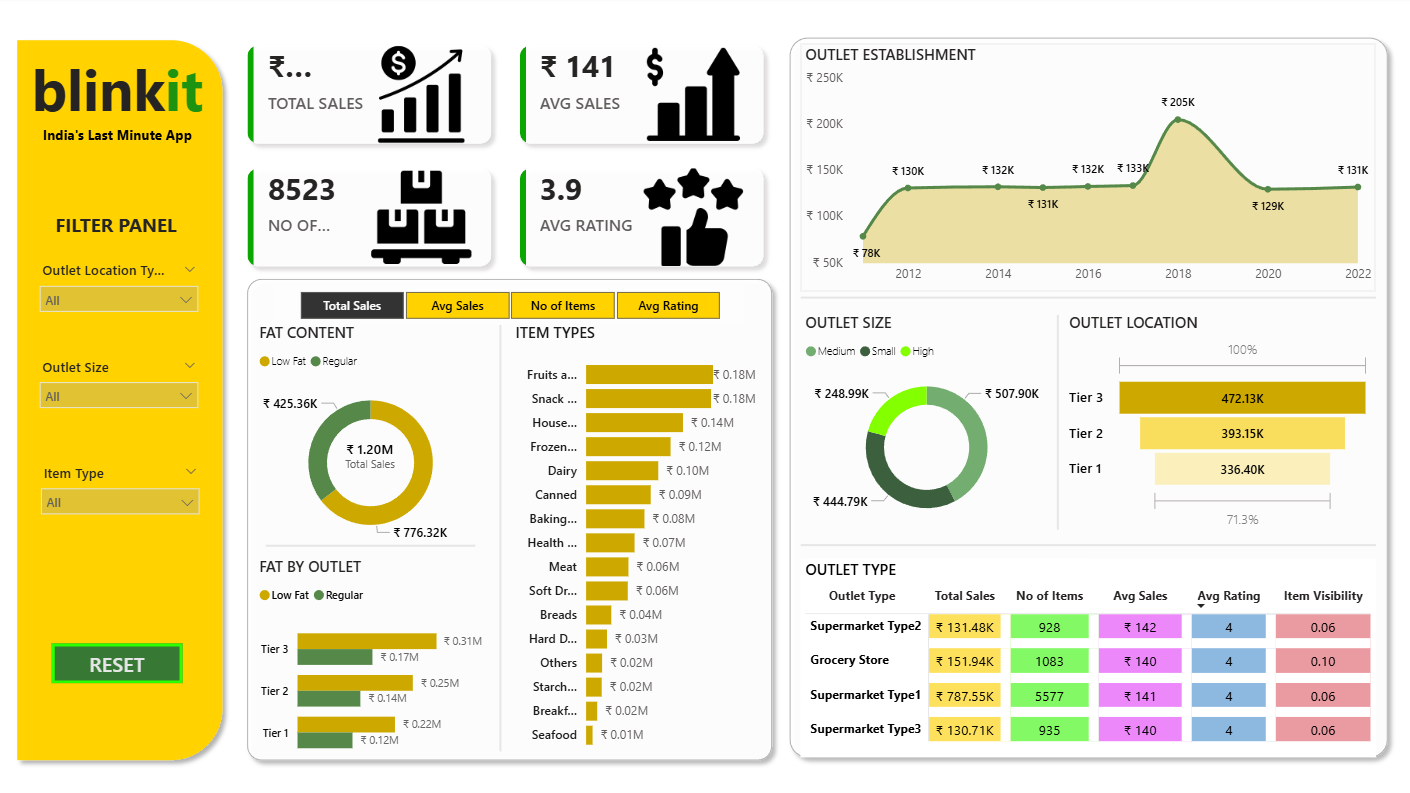

The page's visual inventory and layout, read from the dashboard file:
{"tool":"powerbi","page":{"name":"Page 1","canvas":[1400,800],"ordinal":0},"visuals":[{"type":"shape","box":[9.4,34.9,221.2,730.6],"z":0},{"type":"textbox","box":[21.4,48.3,194.4,105.9],"z":1000},{"type":"cardVisual","fields":{"Data":["BlinkIT Grocery Data.Total Sales","BlinkIT Grocery Data.Avg Sales","BlinkIT Grocery Data.No of Items","BlinkIT Grocery Data.Avg Rating"]},"box":[230.6,32.2,544.2,252],"z":2000},{"type":"shape","box":[237.3,270.8,537.5,494.6],"z":3000},{"type":"donutChart","title":"FAT CONTENT","fields":{"Y":["BlinkIT Grocery Data.Total Sales"],"Category":["BlinkIT Grocery Data.Item Fat Content"]},"box":[253.4,323.1,230.6,230.6],"z":4000},{"type":"slicer","fields":{"Values":["Metrics.Metrics"]},"box":[273.5,285.5,465.1,40.2],"z":5000},{"type":"cardVisual","fields":{"Data":["BlinkIT Grocery Data.Total Sales"]},"box":[324.4,427.6,88.5,52.3],"z":6000},{"type":"clusteredBarChart","title":"FAT BY OUTLET","fields":{"Y":["BlinkIT Grocery Data.Total Sales"],"Category":["BlinkIT Grocery Data.Outlet Location Type"],"Series":["BlinkIT Grocery Data.Item Fat Content"]},"box":[253.4,553.6,230.6,213.1],"z":7000},{"type":"shape","box":[264.1,538.9,207.8,9.4],"z":8000},{"type":"shape","box":[490.6,325.7,12.1,422.3],"z":9000},{"type":"barChart","title":"ITEM TYPES","fields":{"Y":["BlinkIT Grocery Data.Total Sales"],"Category":["BlinkIT Grocery Data.Item Type"]},"box":[506.7,323.1,248,433],"z":10000},{"type":"shape","box":[774.8,32.2,609.9,730.6],"z":11000},{"type":"lineChart","title":"OUTLET ESTABLISHMENT","fields":{"Y":["BlinkIT Grocery Data.Total Sales"],"Category":["BlinkIT Grocery Data.Outlet Establishment Year"]},"box":[793.6,46.9,569.7,246.7],"z":12000},{"type":"donutChart","title":"OUTLET SIZE","fields":{"Y":["BlinkIT Grocery Data.Total Sales"],"Category":["BlinkIT Grocery Data.Outlet Size"]},"box":[793.6,312.7,250,220],"z":13000},{"type":"shape","box":[793.6,293.6,569.7,10.7],"z":14000},{"type":"funnel","title":"OUTLET LOCATION","fields":{"Y":["Sum(BlinkIT Grocery Data.Sales)"],"Category":["BlinkIT Grocery Data.Outlet Location Type"]},"box":[1055.6,312.6,308.3,219.8],"z":15000},{"type":"shape","box":[1042.9,315,12.1,213.1],"z":16000},{"type":"shape","box":[793.6,537.5,569.7,10.7],"z":17000},{"type":"pivotTable","title":"OUTLET TYPE","fields":{"Rows":["BlinkIT Grocery Data.Outlet Type"],"Values":["BlinkIT Grocery Data.Total Sales","BlinkIT Grocery Data.No of Items","BlinkIT Grocery Data.Avg Sales","BlinkIT Grocery Data.Avg Rating","Avg(BlinkIT Grocery Data.Item Visibility)"]},"box":[793.6,556.3,569.7,197.1],"z":18000},{"type":"slicer","fields":{"Values":["BlinkIT Grocery Data.Outlet Location Type"]},"box":[30.8,257.4,176.9,81.8],"z":19000},{"type":"slicer","fields":{"Values":["BlinkIT Grocery Data.Outlet Size"]},"box":[30.8,352.5,176.9,81.8],"z":20000},{"type":"slicer","fields":{"Values":["BlinkIT Grocery Data.Item Type"]},"box":[32.2,457.1,176.9,81.8],"z":21000},{"type":"textbox","box":[52.3,209.1,152.8,41.6],"z":22000},{"type":"actionButton","box":[53.3,640.7,129.3,39.6],"z":23000}]}

Visuals, with their boxes in screenshot pixels (x1, y1, x2, y2), scaled from the page's 1400x800 canvas onto the 1410x793 screenshot:
shape: x1=9, y1=35, x2=232, y2=759
textbox: x1=22, y1=48, x2=217, y2=153
cardVisual - BlinkIT Grocery Data.Total Sales x BlinkIT Grocery Data.Avg Sales: x1=232, y1=32, x2=780, y2=282
shape: x1=239, y1=268, x2=780, y2=759
"FAT CONTENT" donutChart: x1=255, y1=320, x2=487, y2=549
slicer - Metrics.Metrics: x1=275, y1=283, x2=744, y2=323
cardVisual - BlinkIT Grocery Data.Total Sales: x1=327, y1=424, x2=416, y2=476
"FAT BY OUTLET" clusteredBarChart: x1=255, y1=549, x2=487, y2=760
shape: x1=266, y1=534, x2=475, y2=544
shape: x1=494, y1=323, x2=506, y2=741
"ITEM TYPES" barChart: x1=510, y1=320, x2=760, y2=749
shape: x1=780, y1=32, x2=1395, y2=756
"OUTLET ESTABLISHMENT" lineChart: x1=799, y1=46, x2=1373, y2=291
"OUTLET SIZE" donutChart: x1=799, y1=310, x2=1051, y2=528
shape: x1=799, y1=291, x2=1373, y2=302
"OUTLET LOCATION" funnel: x1=1063, y1=310, x2=1374, y2=528
shape: x1=1050, y1=312, x2=1063, y2=523
shape: x1=799, y1=533, x2=1373, y2=543
"OUTLET TYPE" pivotTable: x1=799, y1=551, x2=1373, y2=747
slicer - BlinkIT Grocery Data.Outlet Location Type: x1=31, y1=255, x2=209, y2=336
slicer - BlinkIT Grocery Data.Outlet Size: x1=31, y1=349, x2=209, y2=430
slicer - BlinkIT Grocery Data.Item Type: x1=32, y1=453, x2=211, y2=534
textbox: x1=53, y1=207, x2=207, y2=249
actionButton: x1=54, y1=635, x2=184, y2=674
